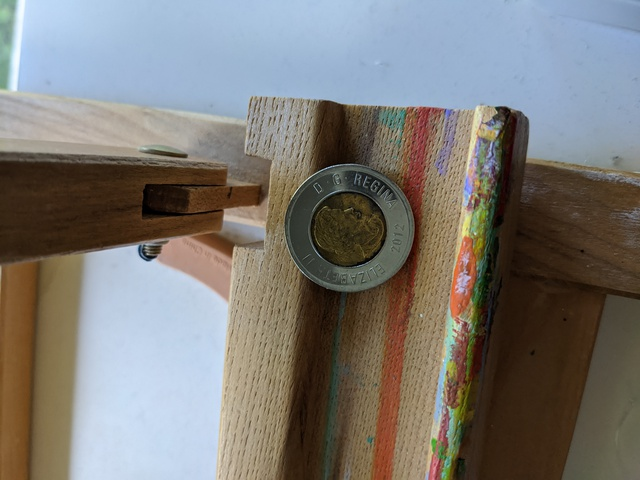twonie: (273, 156, 423, 297)
